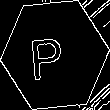P_N: (36, 28, 74, 82)
